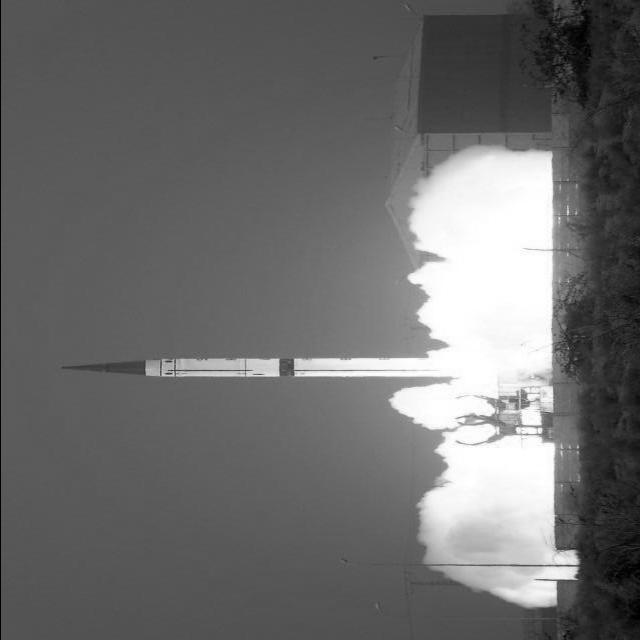missile: (40, 352, 490, 385)
